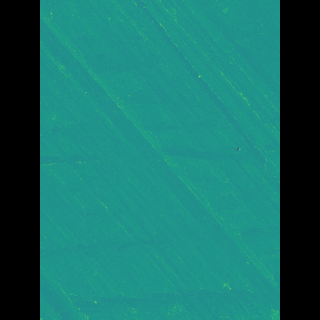Loch: (146, 112, 200, 163)
